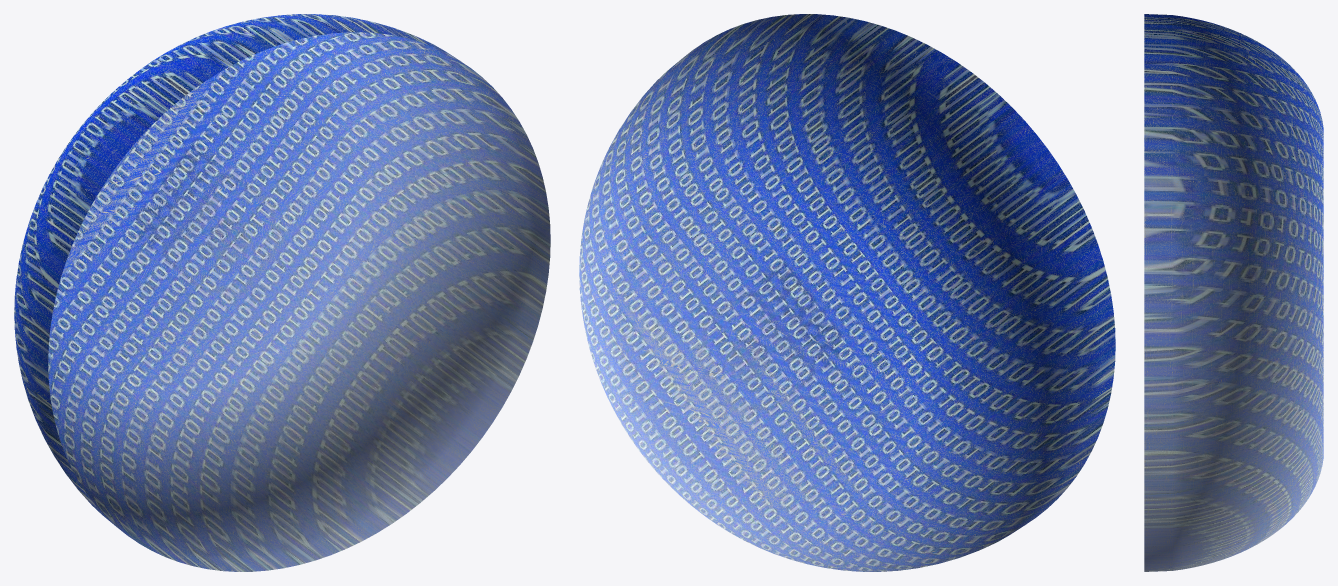
The model's file is model_align.obj.
3 renders of one model, left to right at view 1: azimuth 30°, elevation 25°; view 2: azimuth 150°, elevation 25°; view 3: azimuth 270°, elevation 25°, orthographic. The views are drawn at different scales.
Visible parts, largest first — view 1: mesh1_mesh1-geometry; view 2: mesh1_mesh1-geometry; view 3: mesh1_mesh1-geometry.
Boxes of the visible parts, x1=… form: mesh1_mesh1-geometry: x1=14, y1=14, x2=550, y2=571; mesh1_mesh1-geometry: x1=579, y1=14, x2=1115, y2=571; mesh1_mesh1-geometry: x1=1144, y1=14, x2=1323, y2=571.
Bounding box in the file's own units: 0.1445 × 0.1445 × 0.0464.
